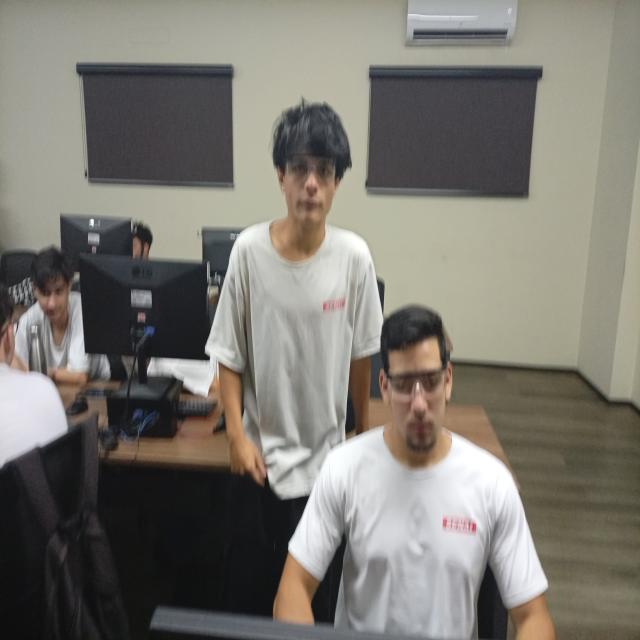oculos-epi: (385, 365, 446, 401), (285, 155, 337, 183)
sem_oculos: (29, 279, 75, 306), (0, 310, 27, 344), (128, 243, 149, 252)
